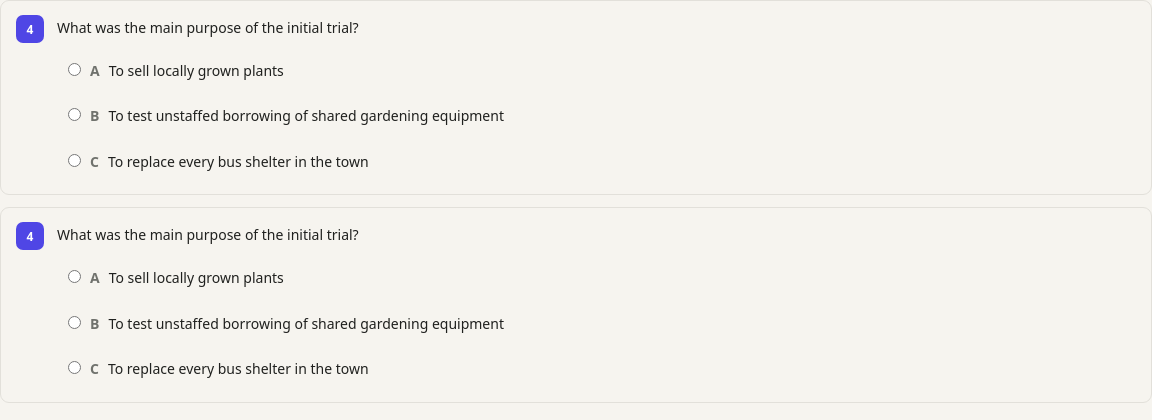
canonical shared-pane state › updates two question views immediately from one sessionId + questionId answer
Click the 1st radio button labelled "A To sell locally grown plants": (74, 69) [68, 63, 81, 76]
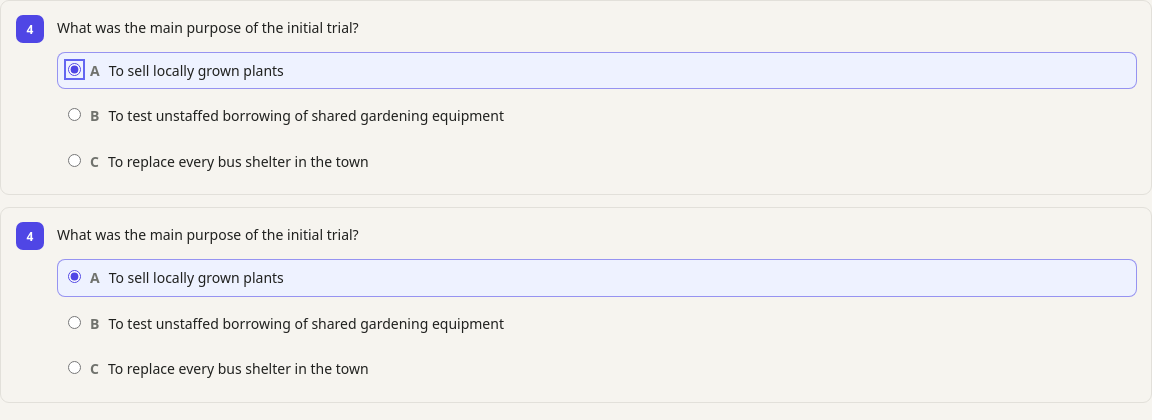
Expected: the 1st radio button labelled "A To sell locally grown plants" is checked, [68, 63, 81, 76]
Expected: the 2nd radio button labelled "A To sell locally grown plants" is checked, [68, 270, 81, 283]
